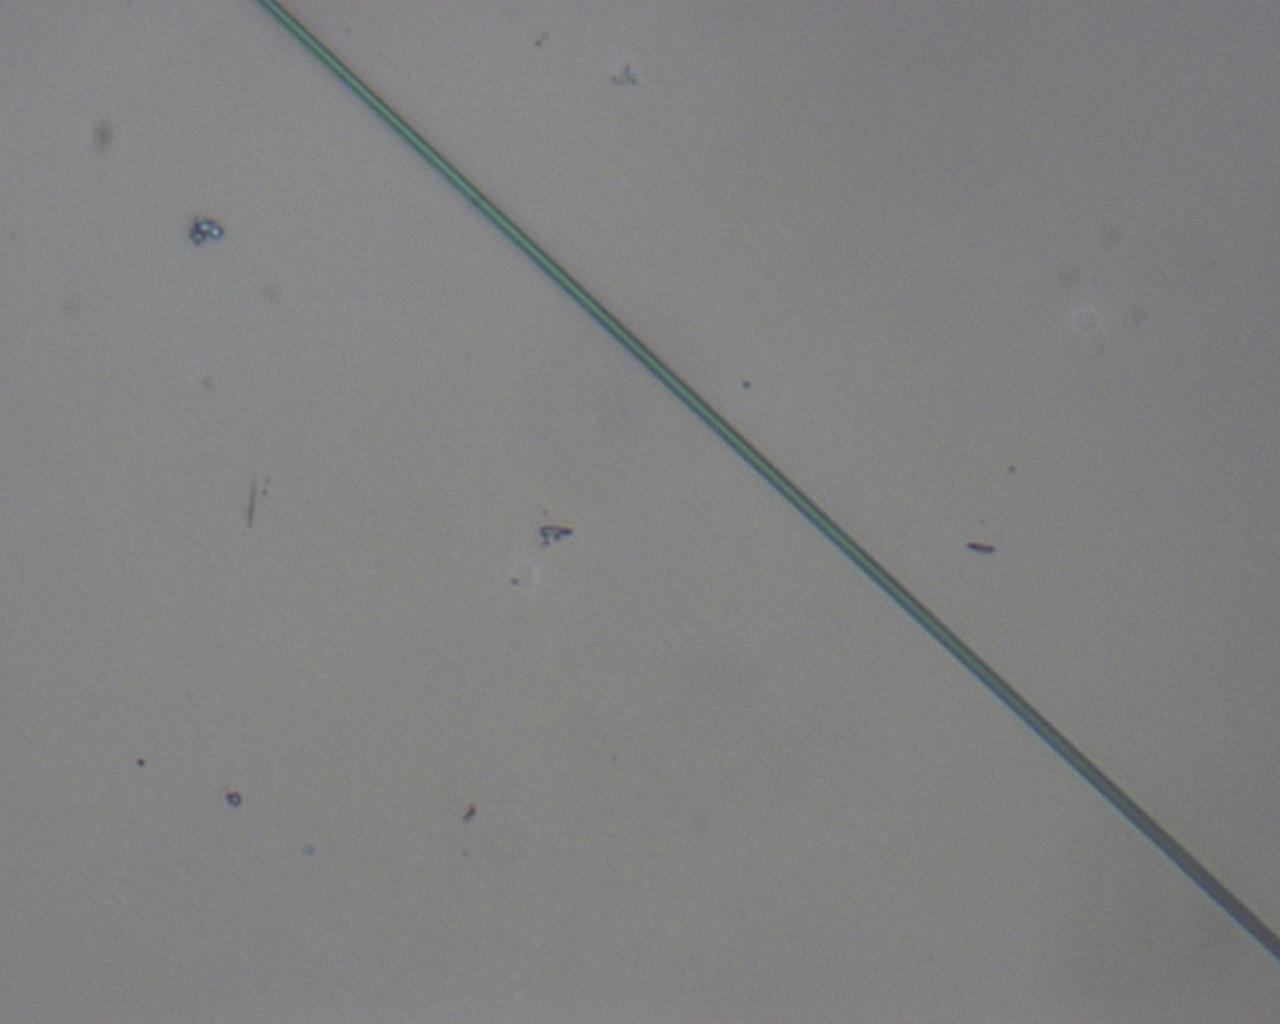fiber: (251, 0, 1280, 960)
